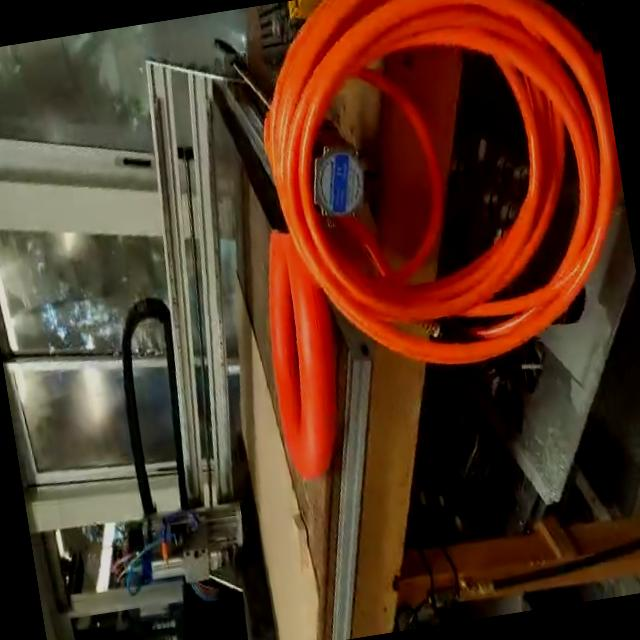note: (249, 215, 357, 484)
